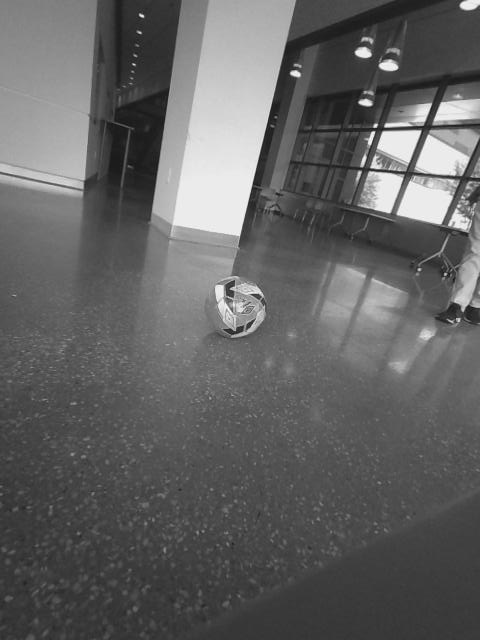ball: (204, 273, 271, 340)
